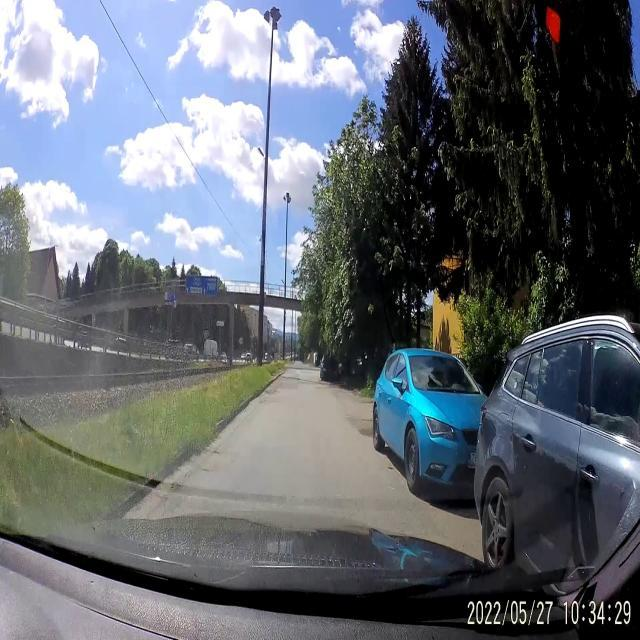Pothole: (210, 444, 220, 460)
